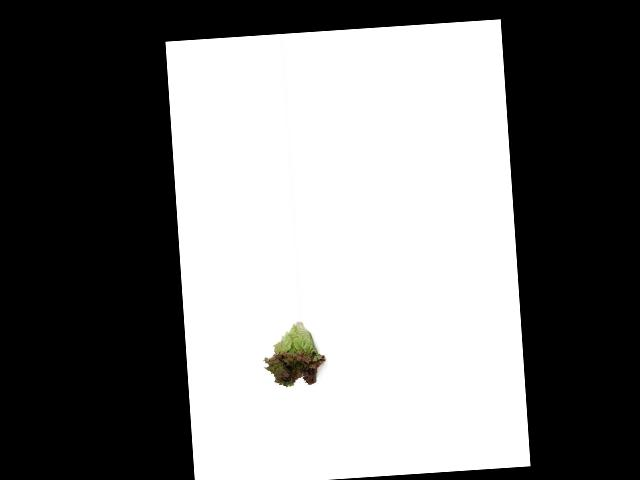lettuce: (258, 318, 333, 396)
